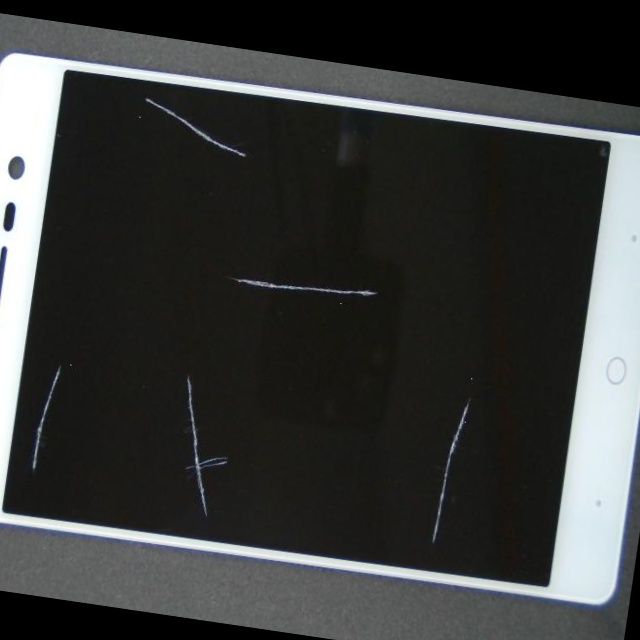scratch: (140, 275, 640, 640), (5, 133, 326, 629), (61, 152, 345, 432), (0, 19, 261, 183), (0, 237, 108, 599)
